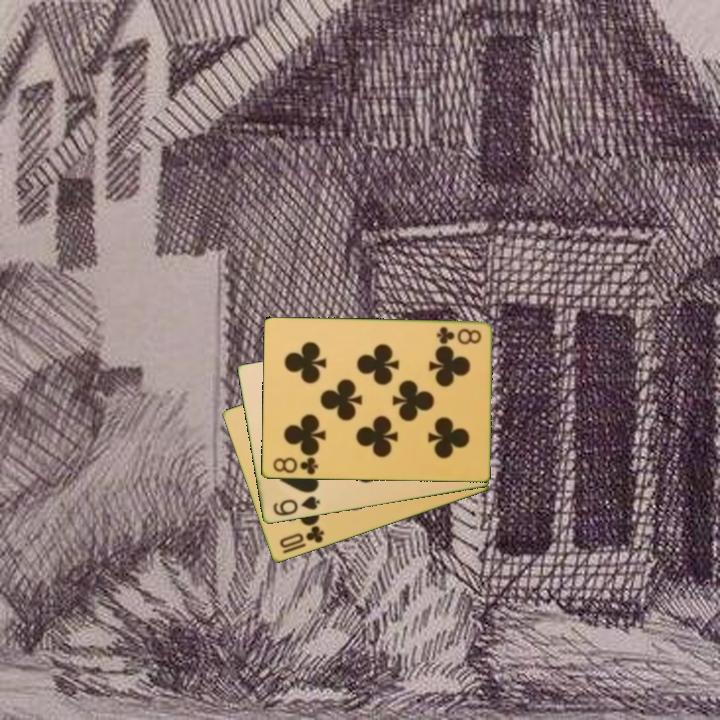10c: (276, 522, 327, 552)
6s: (269, 493, 323, 519)
8c: (269, 454, 321, 478), (433, 323, 484, 347)
